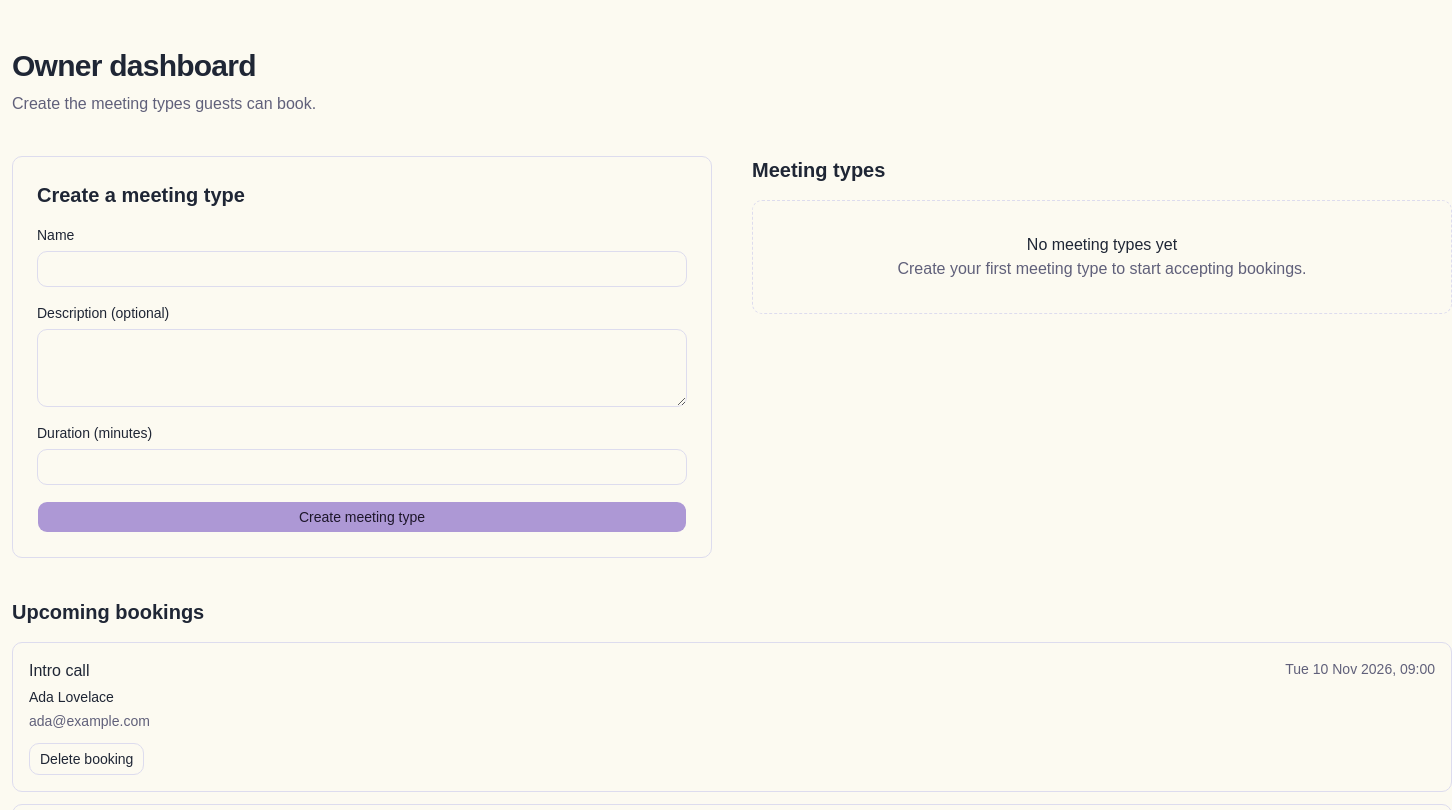
OwnerDashboardPage › deleting a booking › asks for confirmation before deleting
Click the button "Delete booking" at (87, 759), box top-left (29, 743), bottom-right (144, 775)
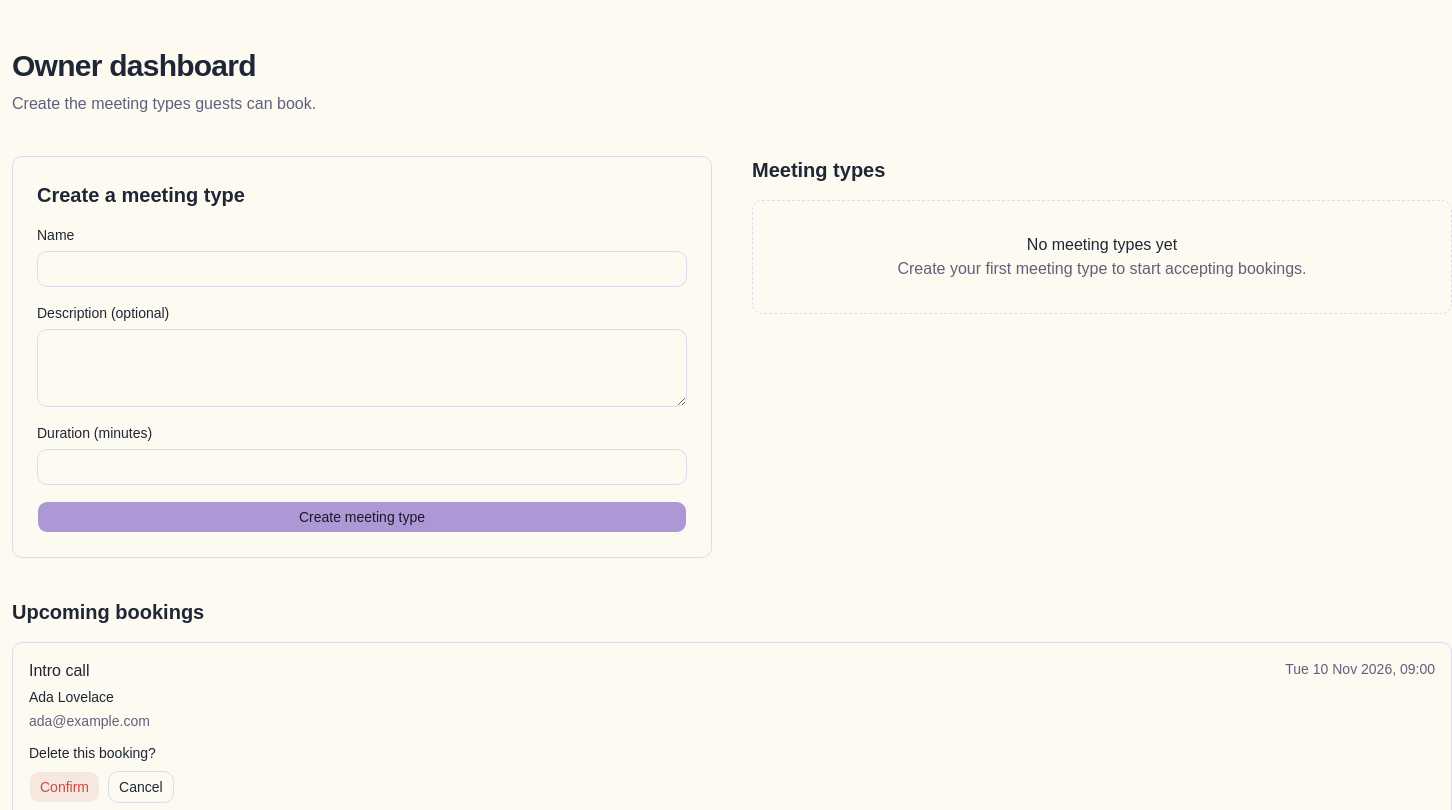
Check: the text "Delete this booking?" is shown, box top-left (29, 745), bottom-right (156, 761)
